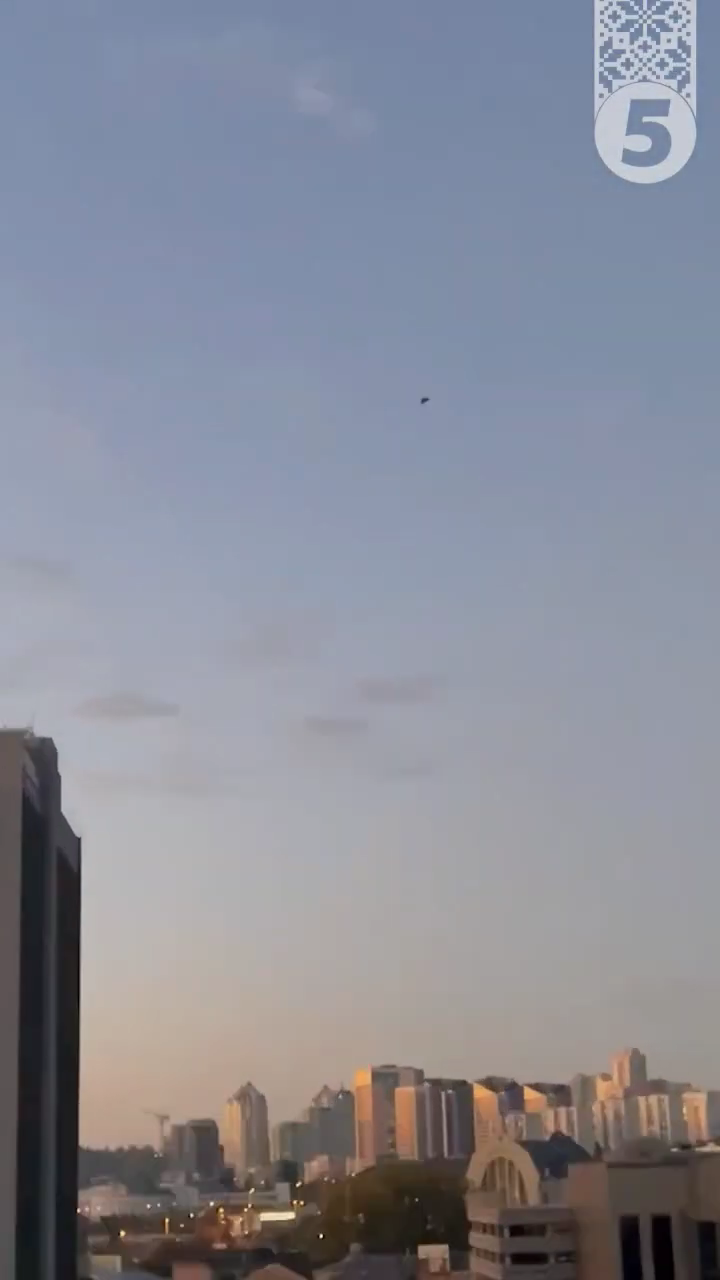shahed: (419, 395, 432, 405)
